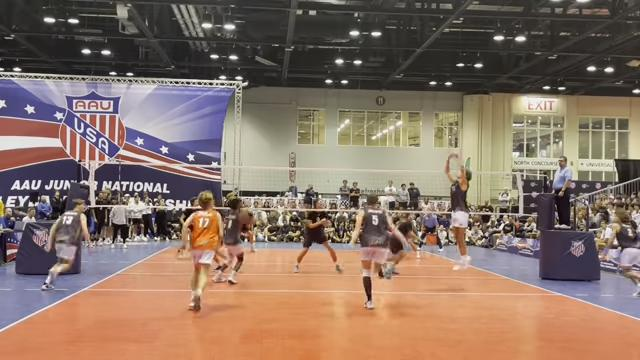attacco: (439, 144, 477, 272), (44, 199, 94, 292)
